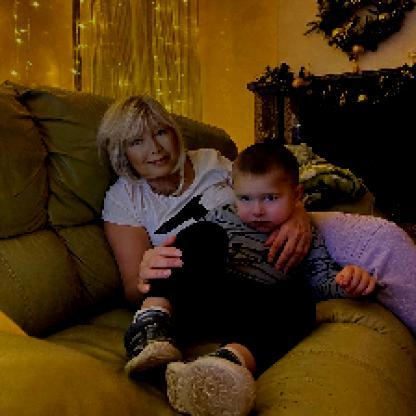child: (125, 140, 378, 415)
